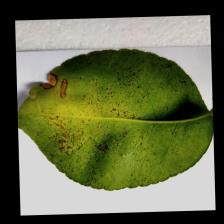canker: (29, 54, 112, 174)
